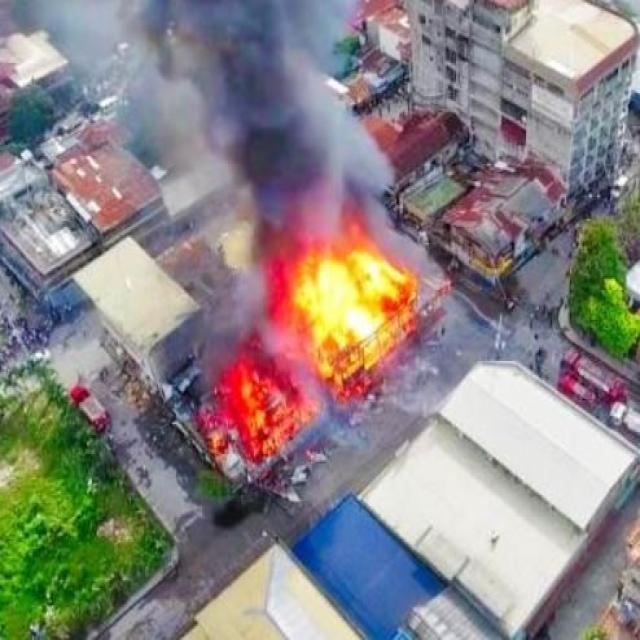Fire: (300, 246, 420, 369), (228, 367, 315, 449)
Smoke: (162, 0, 440, 238)
